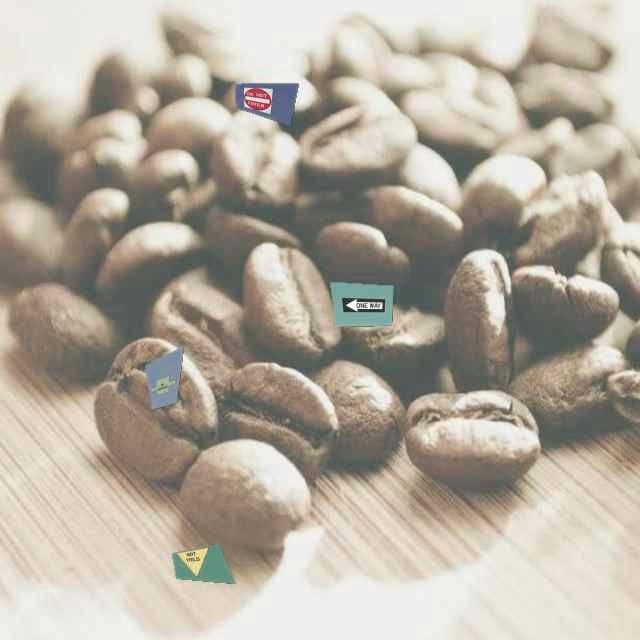DO_NOT_ENTER: (243, 84, 273, 115)
GO_AROUND: (148, 372, 180, 398)
NOT_YIELD: (174, 547, 221, 583)
ONE_WAY_ left: (342, 298, 385, 313)
